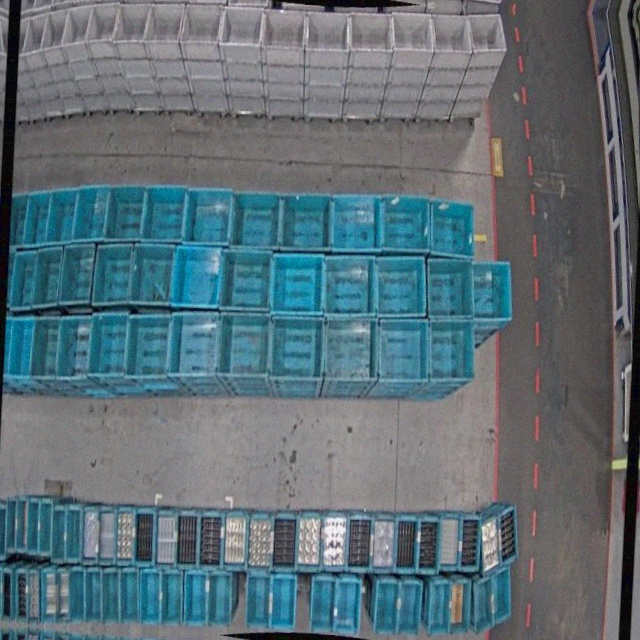Box: (374, 318, 431, 389), (267, 314, 324, 385), (372, 253, 430, 322), (322, 253, 380, 321), (269, 250, 327, 318), (322, 318, 379, 387), (375, 191, 433, 257), (220, 246, 275, 315), (277, 190, 334, 255), (428, 316, 480, 387), (216, 312, 269, 380), (170, 311, 222, 380), (329, 190, 383, 255), (229, 188, 283, 253), (422, 256, 475, 322), (170, 244, 222, 310), (427, 195, 478, 261), (184, 185, 236, 249), (469, 259, 518, 325), (86, 311, 131, 380), (127, 313, 172, 382), (142, 183, 190, 245), (91, 243, 135, 307), (132, 243, 176, 307), (55, 314, 93, 381), (105, 183, 146, 243), (346, 8, 395, 55), (59, 244, 96, 306), (260, 6, 309, 52), (304, 8, 352, 54), (71, 184, 108, 243), (388, 10, 435, 55), (429, 12, 474, 58), (465, 12, 508, 60), (218, 4, 264, 48), (144, 1, 185, 49), (46, 186, 80, 243), (30, 316, 60, 380), (180, 2, 223, 46), (113, 0, 150, 51), (33, 247, 64, 307), (8, 317, 37, 379), (294, 509, 322, 572), (88, 2, 120, 56), (23, 189, 53, 246), (11, 251, 40, 309), (495, 504, 520, 571), (222, 510, 249, 571), (249, 512, 276, 572), (270, 512, 297, 572), (197, 510, 224, 570), (333, 579, 361, 636), (322, 513, 349, 572), (369, 514, 396, 573), (471, 574, 497, 635), (345, 513, 372, 571), (478, 514, 502, 579), (394, 513, 420, 573), (490, 564, 514, 627), (428, 579, 454, 637), (154, 507, 179, 567), (373, 579, 399, 636), (416, 517, 441, 576), (132, 506, 156, 567), (311, 577, 337, 633), (397, 580, 423, 636), (438, 514, 463, 572), (183, 572, 209, 627), (269, 579, 295, 634), (249, 573, 274, 629), (61, 5, 94, 46), (117, 568, 141, 624), (115, 505, 137, 566), (66, 568, 89, 626), (180, 512, 202, 571), (140, 571, 164, 625), (160, 572, 184, 626), (40, 8, 70, 51), (211, 573, 234, 628), (448, 578, 470, 635), (97, 505, 118, 564), (22, 12, 49, 56), (9, 193, 30, 249), (84, 505, 104, 563), (99, 569, 120, 624), (41, 568, 61, 624), (83, 568, 103, 624), (63, 504, 82, 562), (461, 517, 481, 572), (51, 502, 69, 563), (53, 568, 72, 625), (36, 497, 54, 556), (13, 566, 31, 624), (24, 496, 41, 555), (25, 567, 42, 624), (2, 497, 18, 557), (15, 496, 31, 554), (0, 566, 16, 623), (73, 504, 88, 562)
